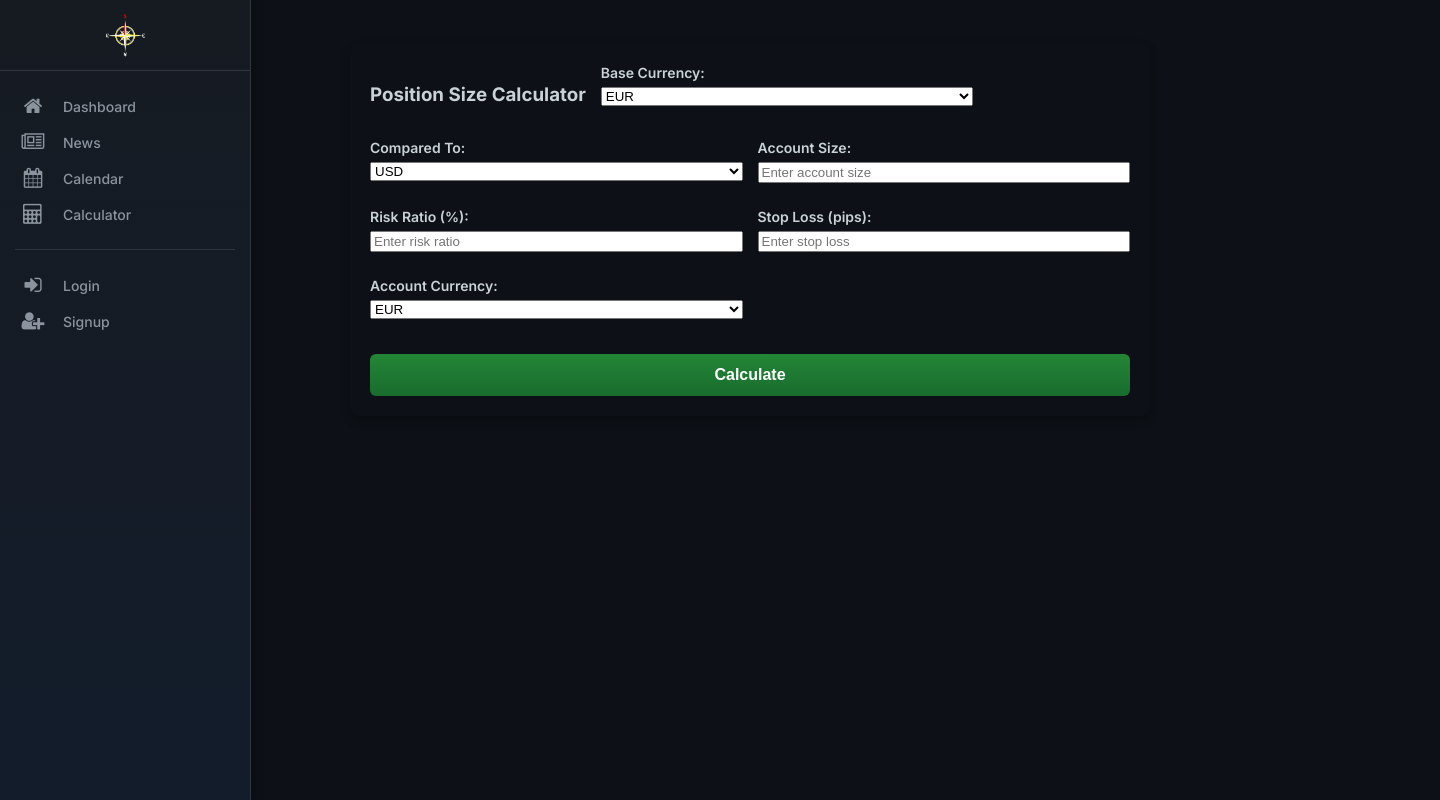
Scenario: Calculator (Mocked Backend) › should calculate swiftly without waiting for external APIs
Type "10000" into the number field named "accountSize" at [945, 173], box top-left (758, 162), bottom-right (1131, 183)
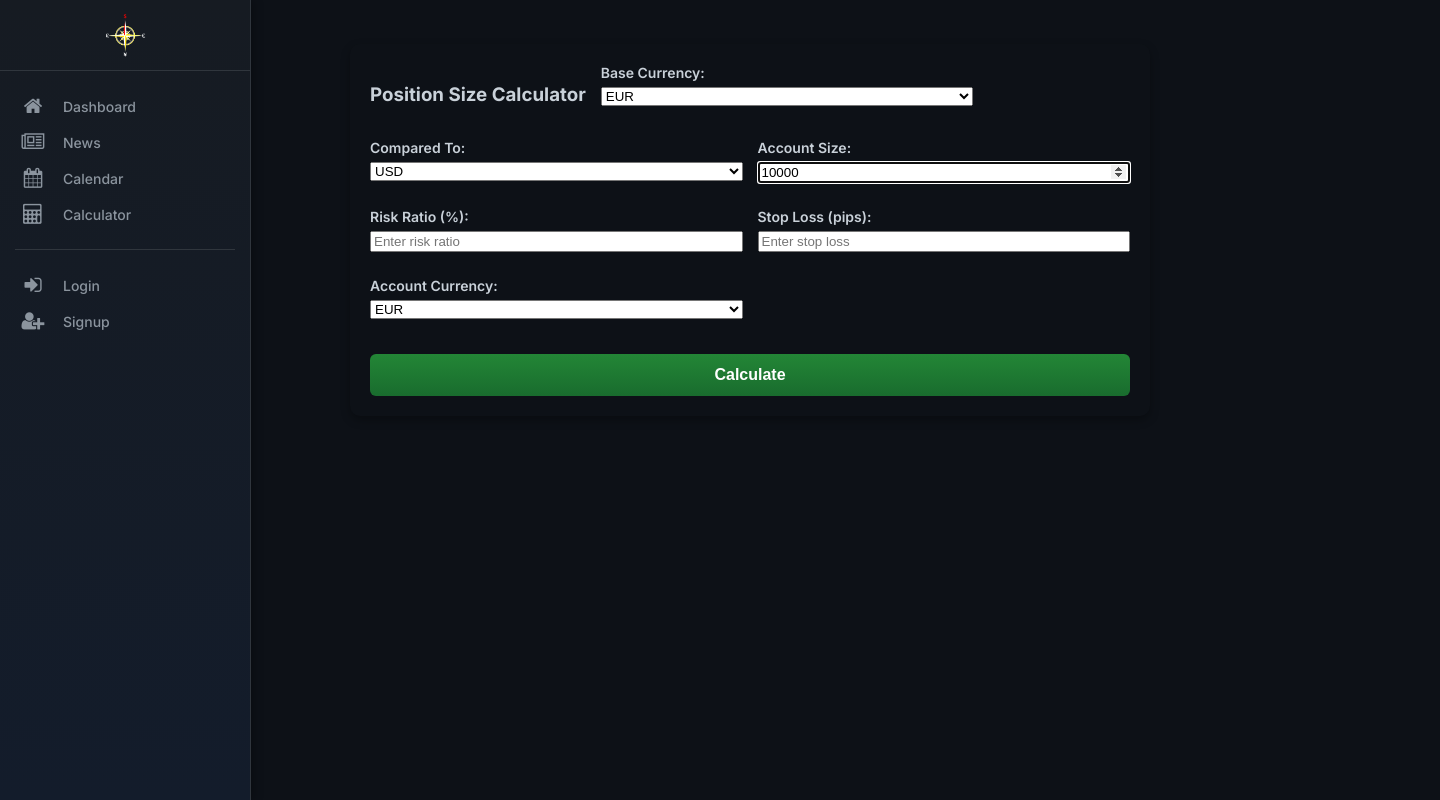
Type "2" into the number field named "riskRatio" at [557, 242], box top-left (370, 231), bottom-right (743, 252)
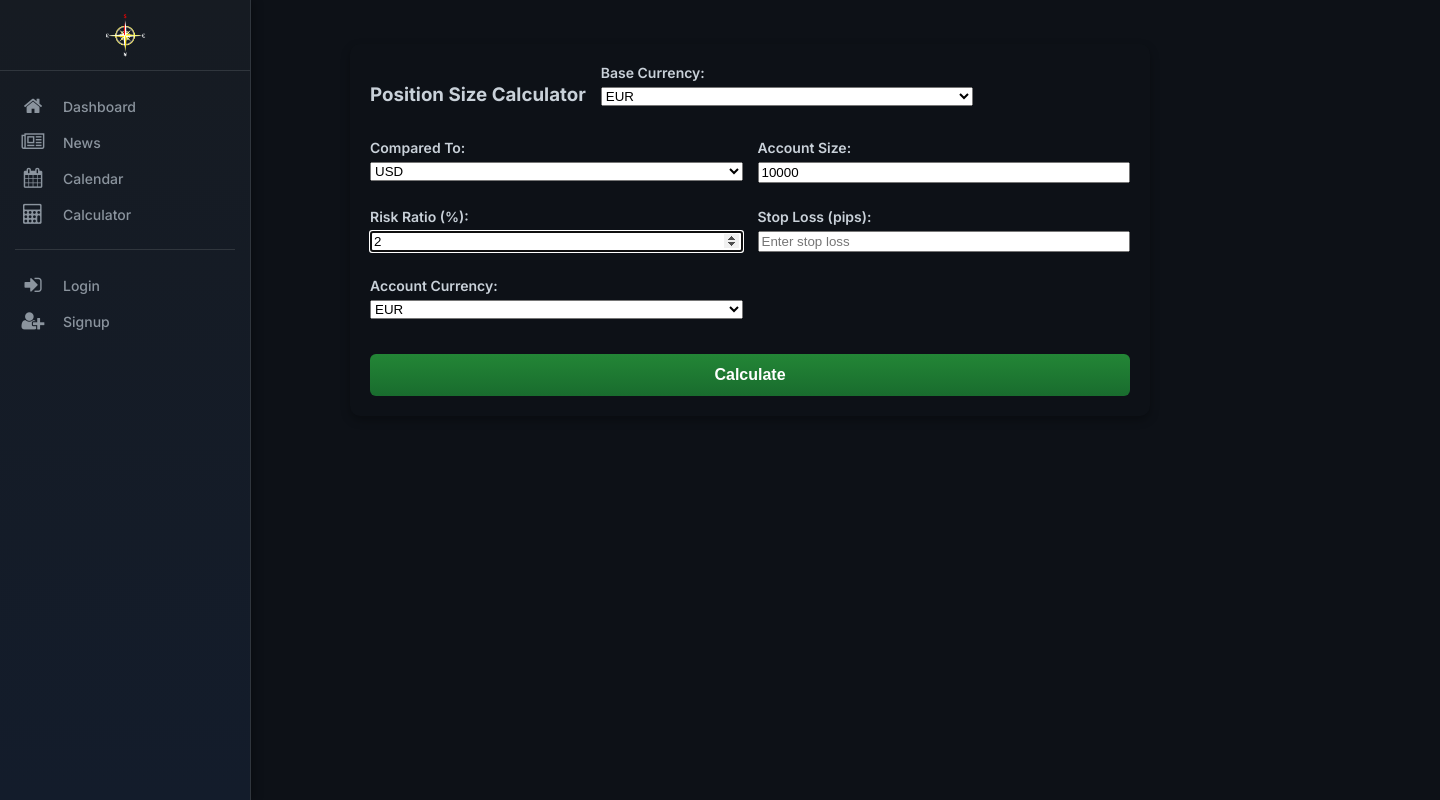
Type "50" into the number field named "stopLoss" at [945, 242], box top-left (758, 231), bottom-right (1131, 252)
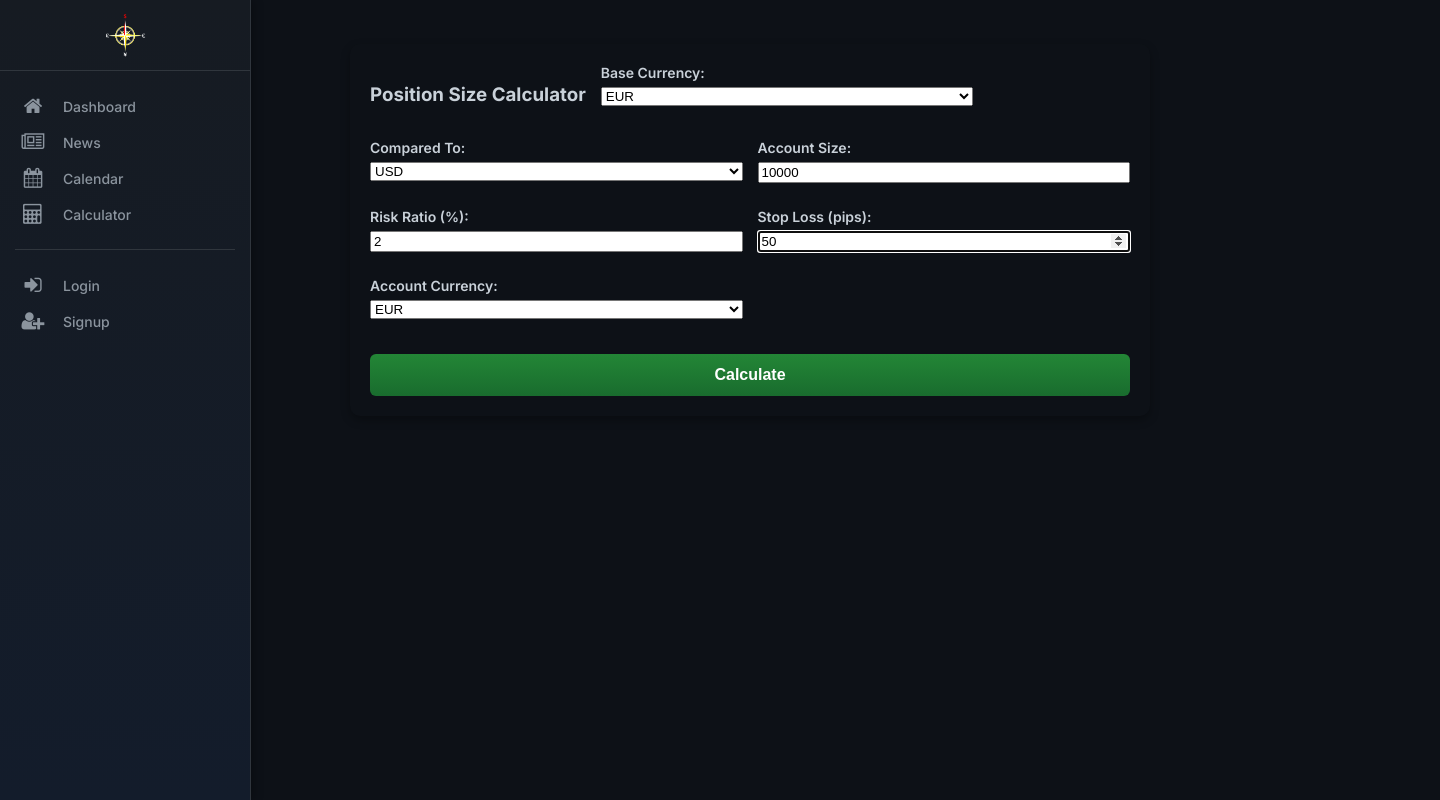
Click the button "Calculate" at [750, 375], box top-left (370, 354), bottom-right (1130, 396)
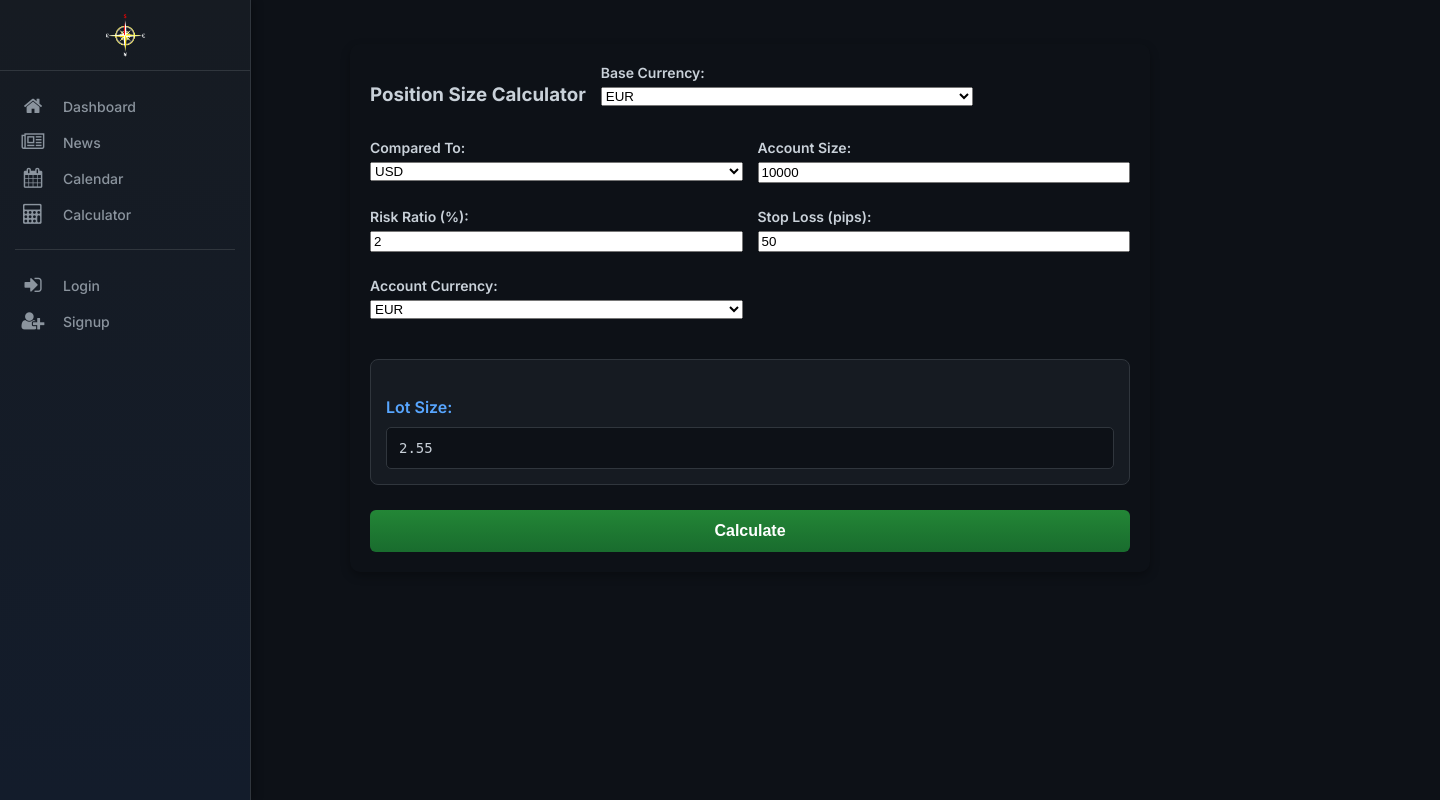
Now the text "2.55" is shown, box top-left (386, 427), bottom-right (1114, 469)
